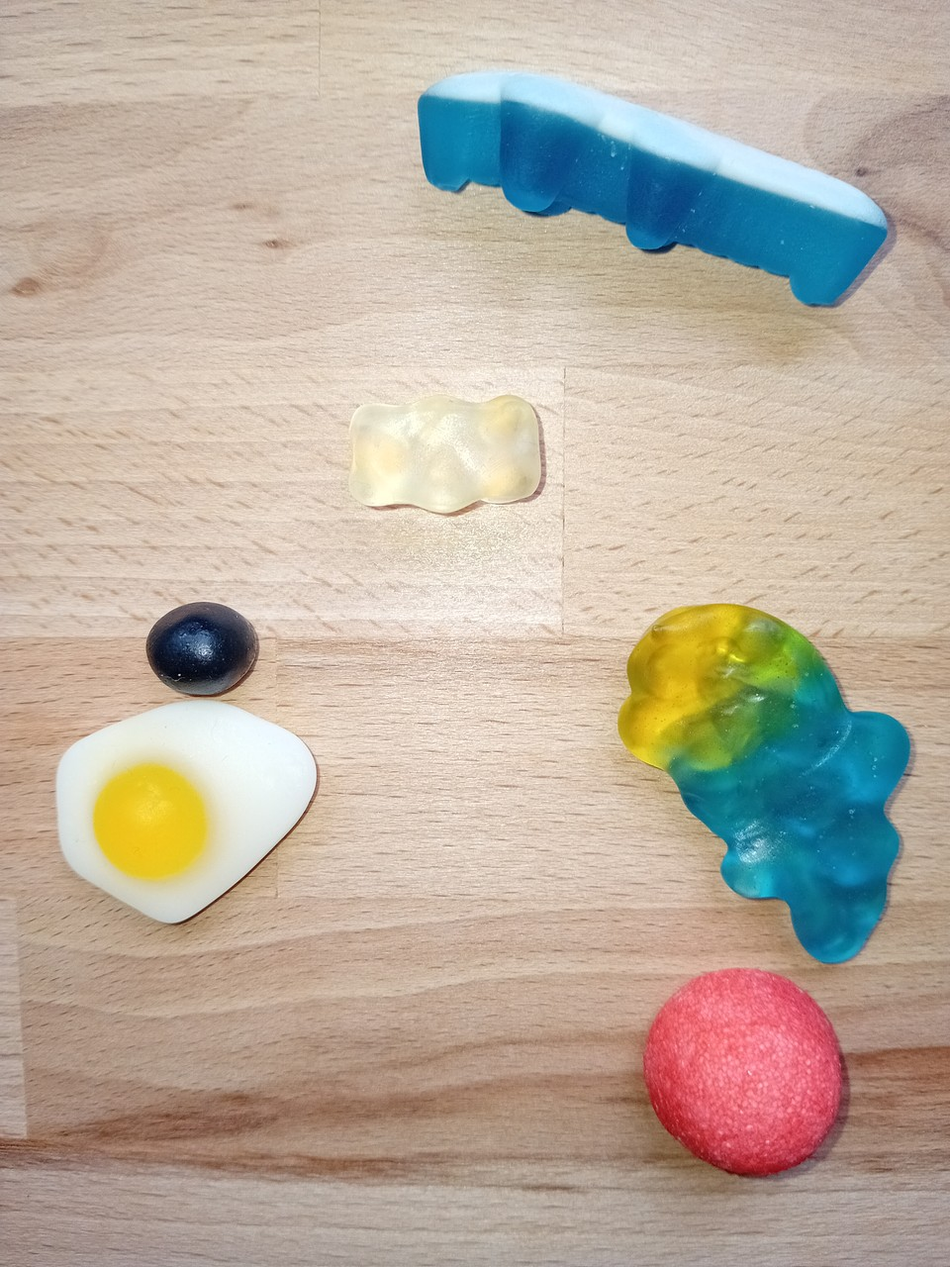crocodile_bleu: (412, 59, 905, 317)
dragibus_noir: (133, 592, 268, 696)
oeuf_oeuf: (41, 693, 326, 934)
ourson_blanc: (342, 383, 545, 524)
schtroumpf_bleu-jaune: (614, 594, 919, 972)
tagada_fraise: (639, 965, 849, 1184)
